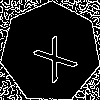X: (25, 27, 79, 84)
